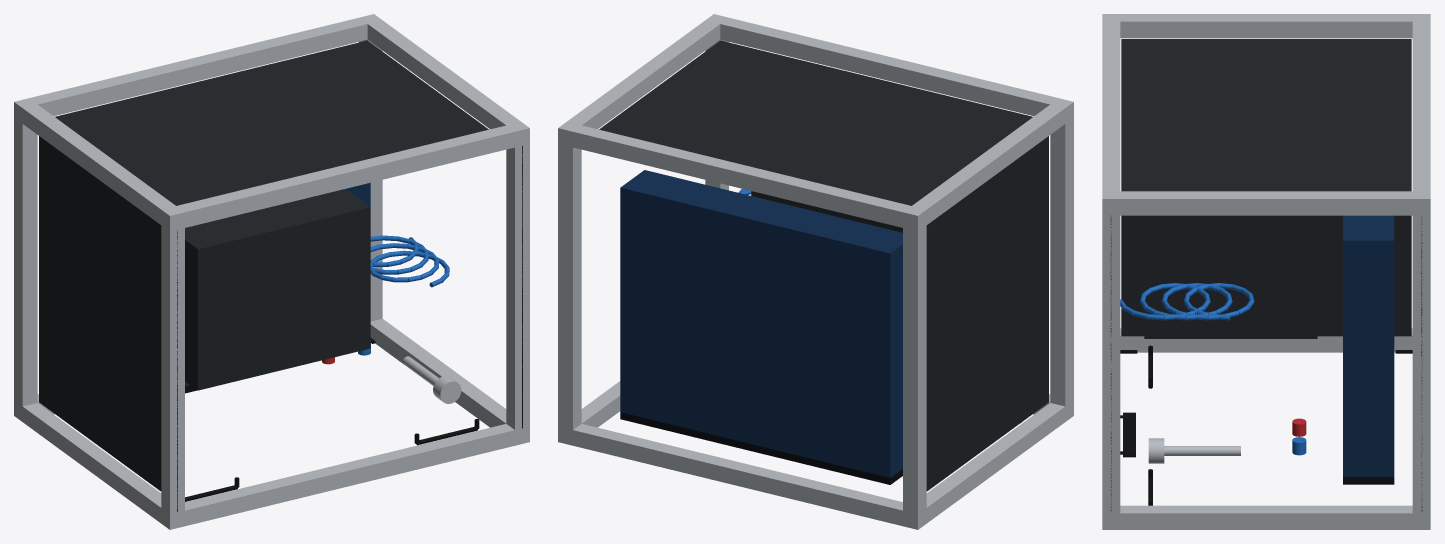
3 renders of one model, left to right at view 1: azimuth 30°, elevation 25°; view 2: azimuth 150°, elevation 25°; view 3: azimuth 270°, elevation 25°, orthographic. The views are drawn at different scales.
Visible parts, largest first — view 1: BACK_INFILL_PANEL, LEFT_INFILL_PANEL, HEATER_BODY, FRAME_WIDTH_RAIL_08, FRAME_WIDTH_RAIL_06, FRAME_WIDTH_RAIL_07, FRAME_DEPTH_RAIL_10, FRAME_DEPTH_RAIL_09, FRAME_DEPTH_RAIL_12, FRAME_POST_02, FRAME_POST_01, FRAME_POST_04 (+3 smaller); view 2: WET_STORAGE_TRAY, BACK_INFILL_PANEL, LEFT_INFILL_PANEL, FRAME_WIDTH_RAIL_07, FRAME_WIDTH_RAIL_05, FRAME_WIDTH_RAIL_08, FRAME_DEPTH_RAIL_09, FRAME_DEPTH_RAIL_11, FRAME_DEPTH_RAIL_10, FRAME_POST_02, FRAME_POST_01, FRAME_POST_04 (+3 smaller); view 3: BACK_INFILL_PANEL, HEATER_BODY, WET_STORAGE_TRAY, FRAME_POST_04, LEFT_INFILL_PANEL, FRAME_POST_03, FRAME_POST_02, FRAME_DEPTH_RAIL_11, FRAME_DEPTH_RAIL_12, FRAME_POST_01, FRAME_WIDTH_RAIL_07, FRAME_WIDTH_RAIL_08 (+4 smaller).
Boxes of the visible parts, x1,y1,x2,y2 form: BACK_INFILL_PANEL: [55, 40, 488, 205]; LEFT_INFILL_PANEL: [39, 136, 161, 491]; HEATER_BODY: [185, 189, 370, 390]; FRAME_WIDTH_RAIL_08: [177, 125, 514, 227]; FRAME_WIDTH_RAIL_06: [185, 424, 514, 526]; FRAME_WIDTH_RAIL_07: [29, 17, 367, 115]; FRAME_DEPTH_RAIL_10: [161, 225, 184, 513]; FRAME_DEPTH_RAIL_09: [14, 118, 37, 406]; FRAME_DEPTH_RAIL_12: [506, 144, 529, 429]; FRAME_POST_02: [14, 98, 184, 231]; FRAME_POST_01: [14, 400, 184, 529]; FRAME_POST_04: [359, 14, 529, 147]; WET_STORAGE_TRAY: [620, 170, 902, 477]; BACK_INFILL_PANEL: [599, 40, 1032, 205]; LEFT_INFILL_PANEL: [926, 136, 1048, 491]; FRAME_WIDTH_RAIL_07: [573, 125, 910, 227]; FRAME_WIDTH_RAIL_05: [573, 424, 902, 526]; FRAME_WIDTH_RAIL_08: [720, 17, 1058, 115]; FRAME_DEPTH_RAIL_09: [903, 225, 926, 513]; FRAME_DEPTH_RAIL_11: [558, 144, 581, 429]; FRAME_DEPTH_RAIL_10: [1050, 118, 1073, 406]; FRAME_POST_02: [903, 98, 1073, 231]; FRAME_POST_01: [903, 400, 1073, 529]; FRAME_POST_04: [558, 14, 728, 147]; BACK_INFILL_PANEL: [1121, 39, 1411, 191]; HEATER_BODY: [1144, 215, 1317, 338]; WET_STORAGE_TRAY: [1343, 215, 1394, 476]; FRAME_POST_04: [1102, 191, 1430, 215]; LEFT_INFILL_PANEL: [1121, 215, 1411, 336]; FRAME_POST_03: [1102, 505, 1430, 529]; FRAME_POST_02: [1102, 14, 1430, 38]; FRAME_DEPTH_RAIL_11: [1412, 215, 1430, 513]; FRAME_DEPTH_RAIL_12: [1102, 215, 1120, 513]; FRAME_POST_01: [1120, 328, 1412, 352]; FRAME_WIDTH_RAIL_07: [1412, 21, 1430, 191]; FRAME_WIDTH_RAIL_08: [1102, 21, 1120, 191].
Bounding box in the file's own units: 60.96 × 50.8 × 45.72.
